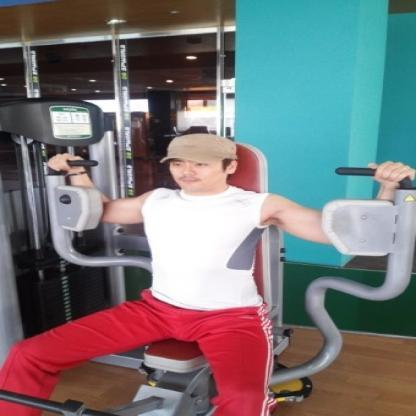chest fly machine: (0, 74, 416, 416)
